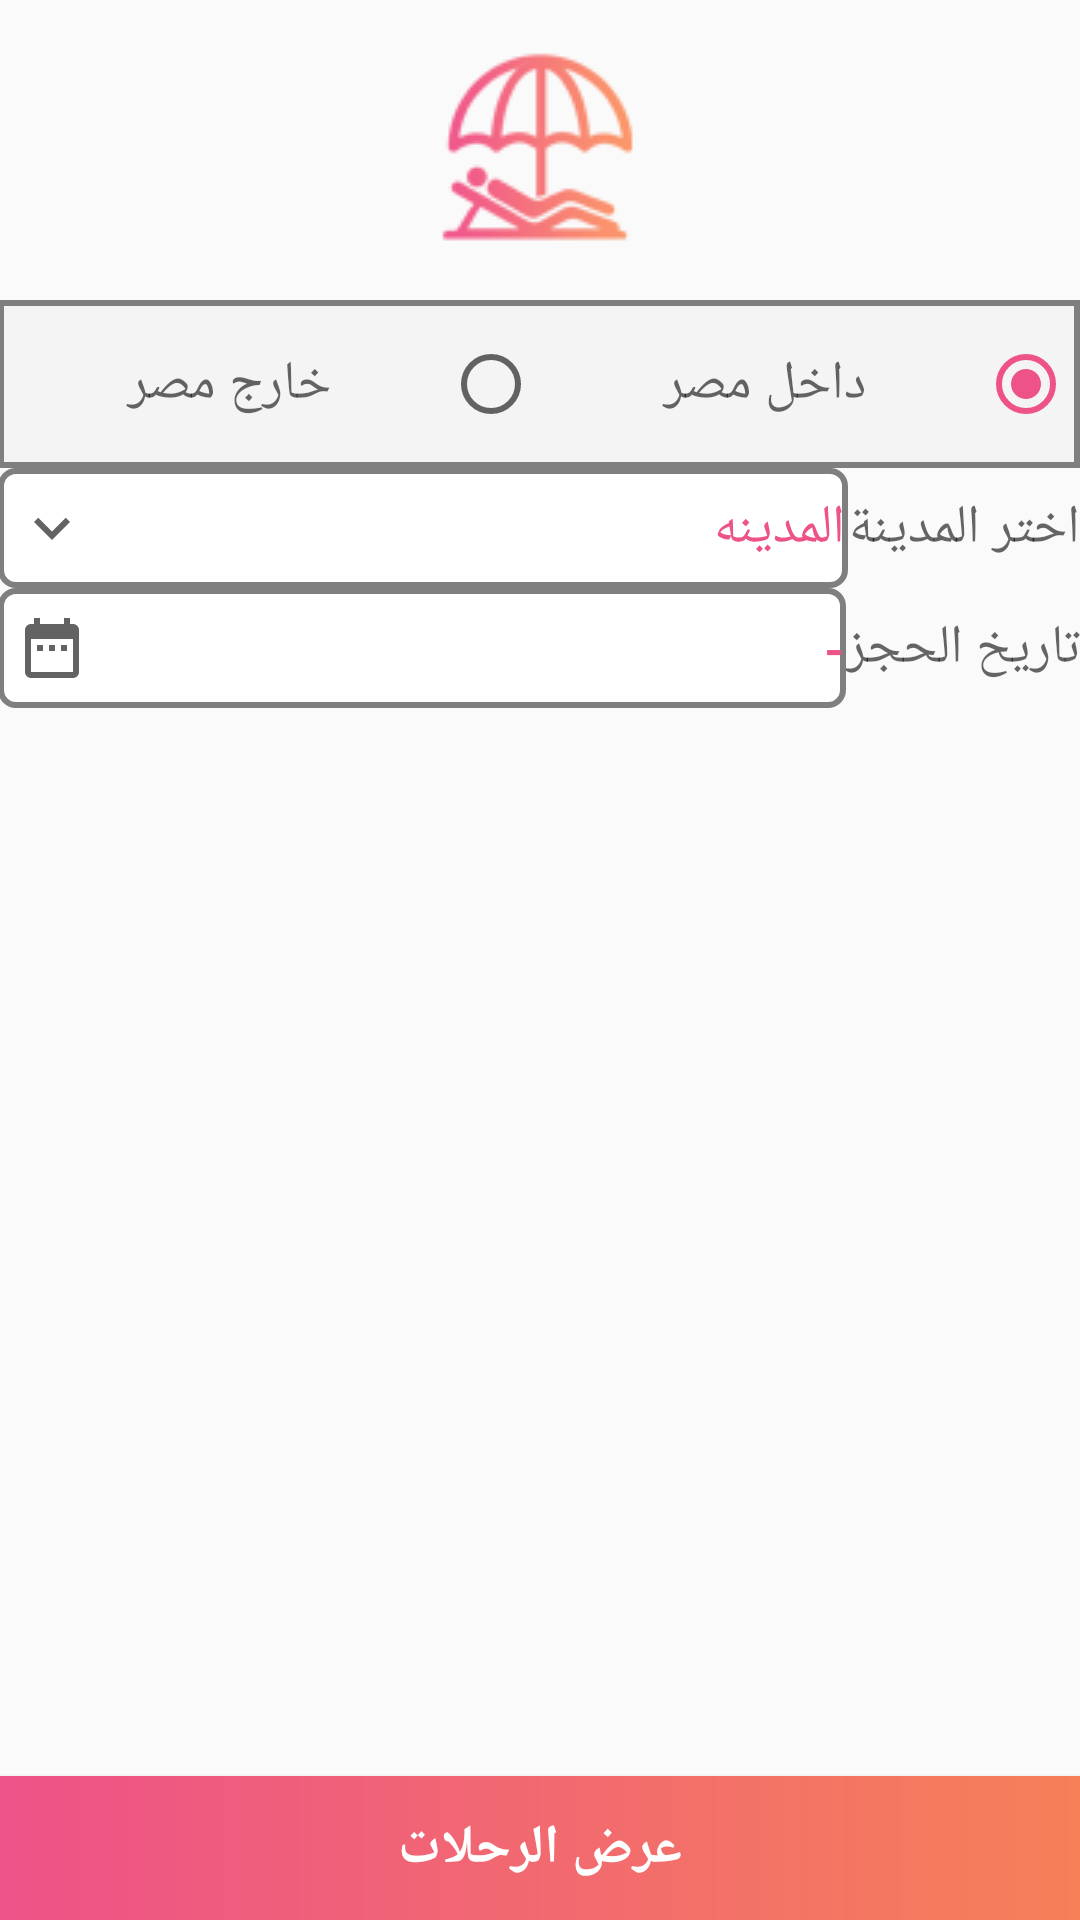

Point at icon controls on the screen. Image size 1080×1920, points as (x=x, y=y).
date range: (x=52, y=648)
expand more: (x=52, y=528)
travel filter top: (x=537, y=147)
